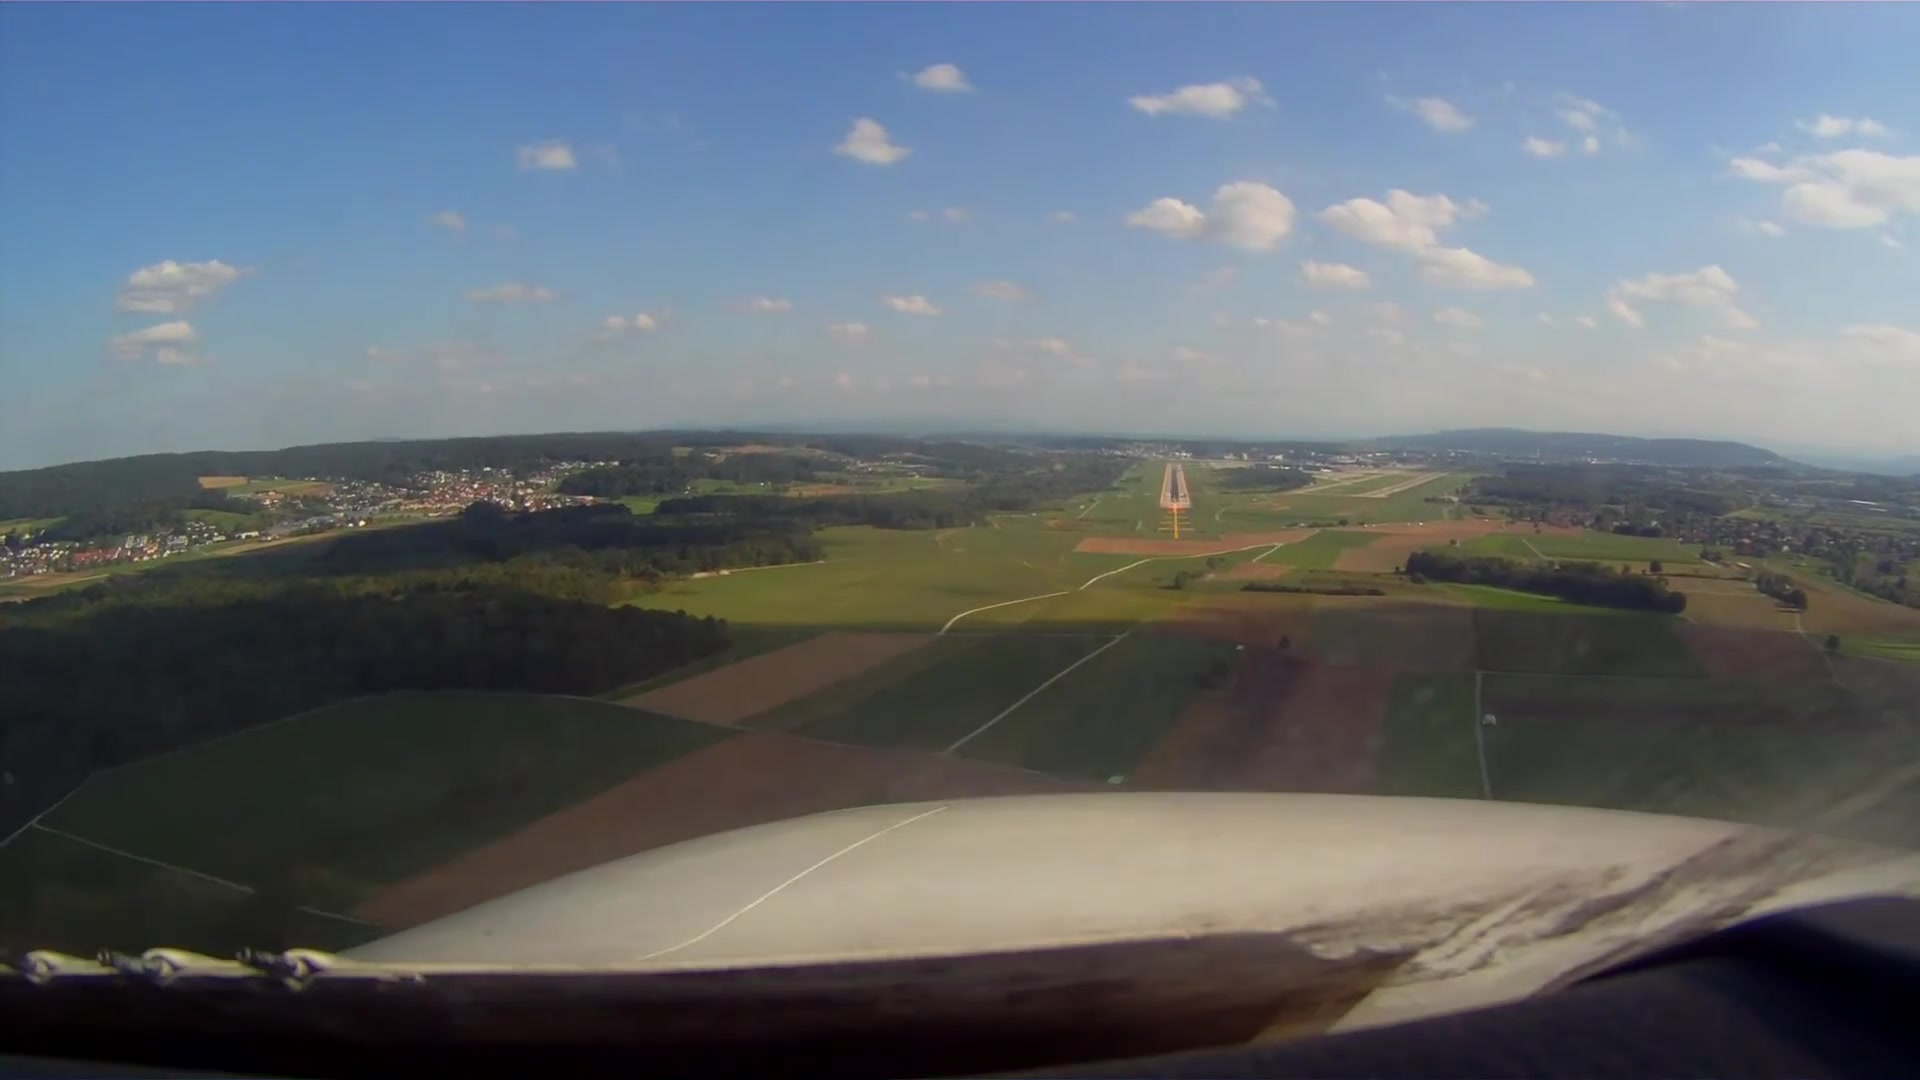runway: (1160, 462, 1191, 509)
